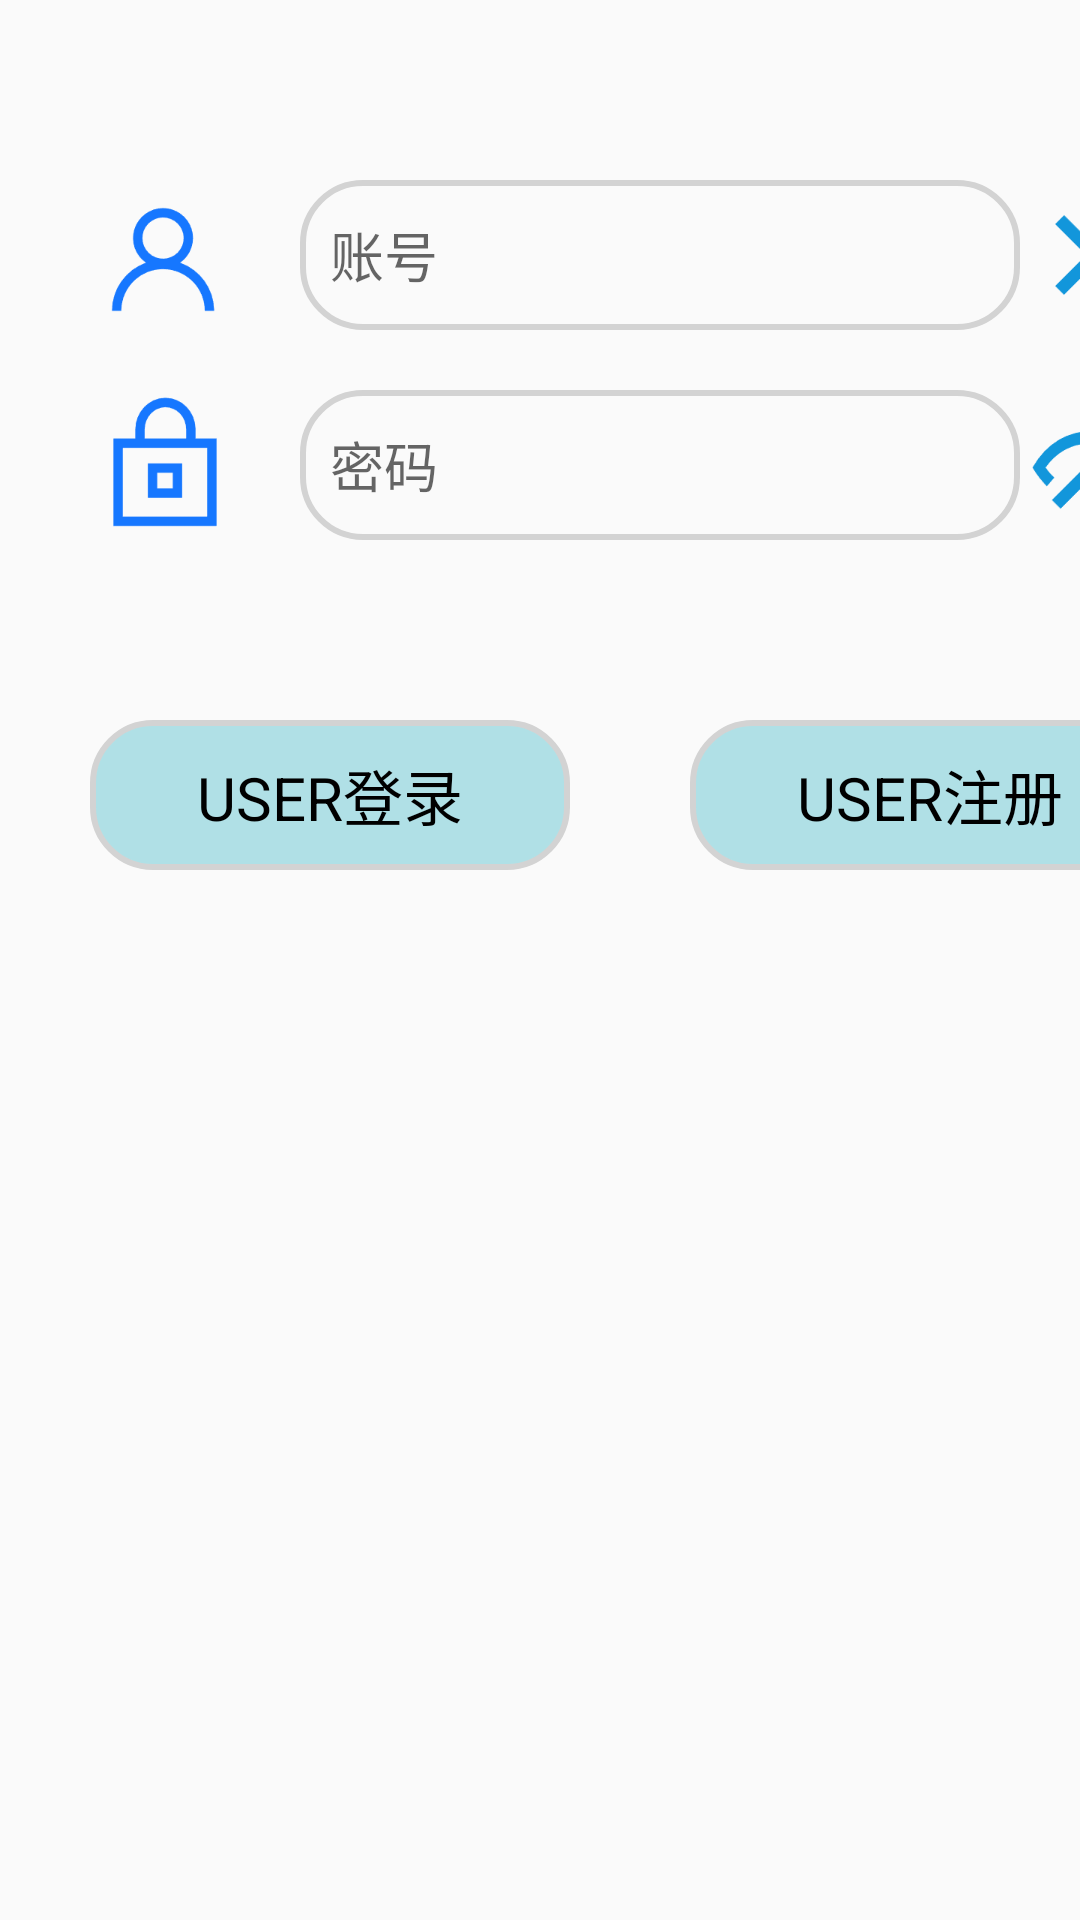

Icon click points for this 1080 x 1920 phone screenshot, format (x=x, y=y):
password: (x=165, y=462)
user: (x=163, y=259)
